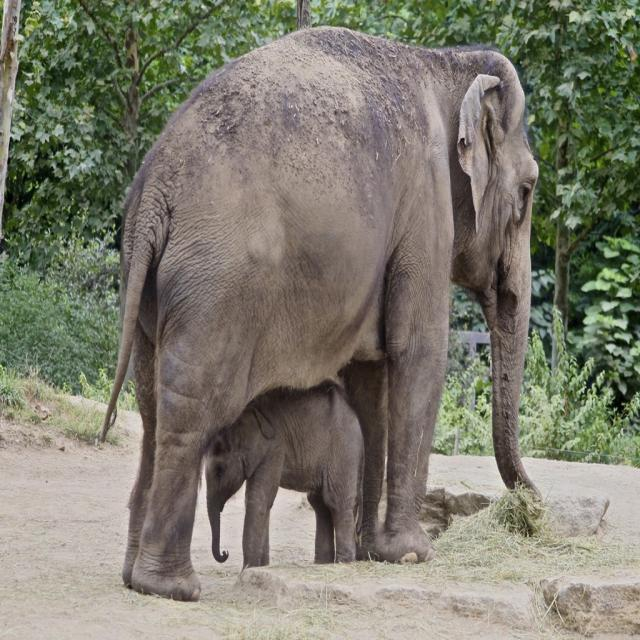Elephant: (97, 24, 544, 602), (202, 378, 366, 570)
